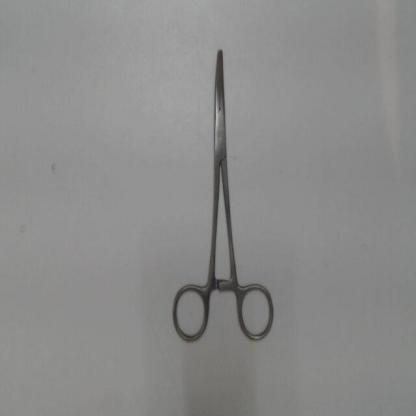Crile Artery Forceps: (164, 44, 282, 356)
